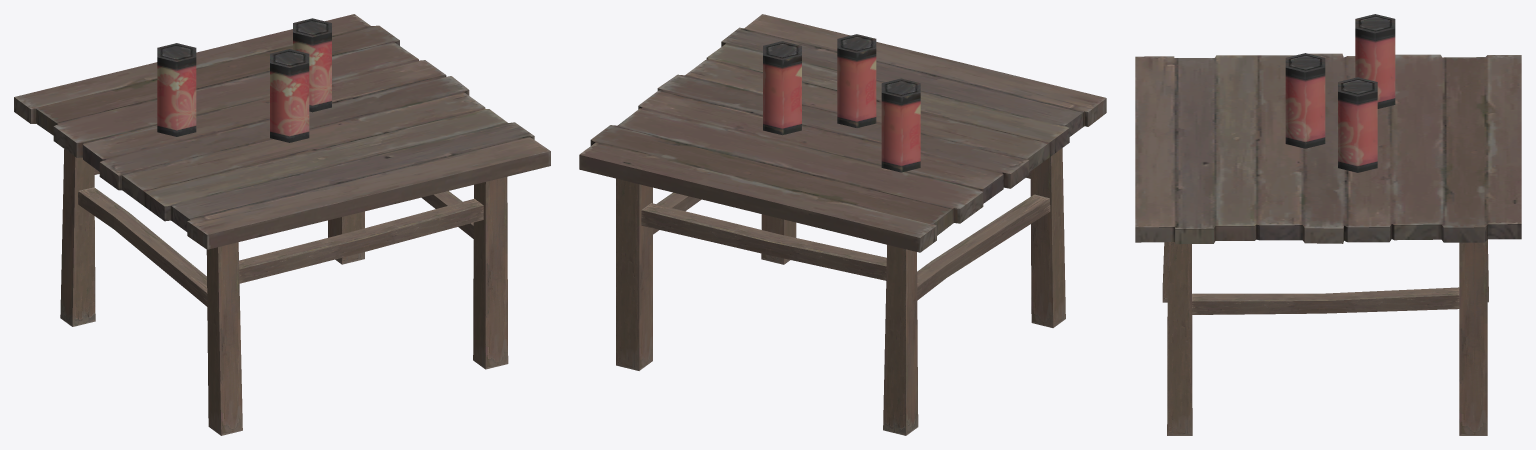
The model's file is Homeworld_Exterior_Dq_Table_MuZhuo_01_Vo.fbx.
3 renders of one model, left to right at view 1: azimuth 30°, elevation 25°; view 2: azimuth 150°, elevation 25°; view 3: azimuth 270°, elevation 25°, orthographic.
Parts seen in each view (by area): view 1: Area_Dq_Prop_Common_Table_02_Vo; view 2: Area_Dq_Prop_Common_Table_02_Vo; view 3: Area_Dq_Prop_Common_Table_02_Vo.
Part boxes in pixels (bbox=[...]): Area_Dq_Prop_Common_Table_02_Vo: bbox=[14, 14, 550, 435]; Area_Dq_Prop_Common_Table_02_Vo: bbox=[579, 14, 1106, 435]; Area_Dq_Prop_Common_Table_02_Vo: bbox=[1135, 14, 1521, 435].
Bounding box in the file's own units: 1.32 × 1.05 × 1.23.
